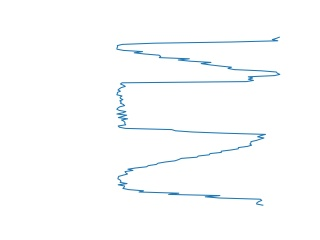distributaryChannelFill: (112, 73, 271, 143)
mouthBar: (112, 33, 284, 80)
underwaterDistributaryChannel: (115, 136, 269, 209)
